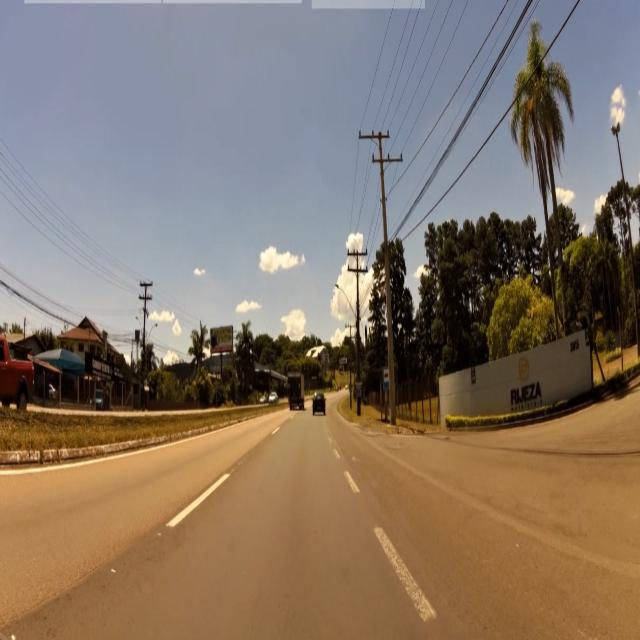S-14: (383, 367, 389, 389)
